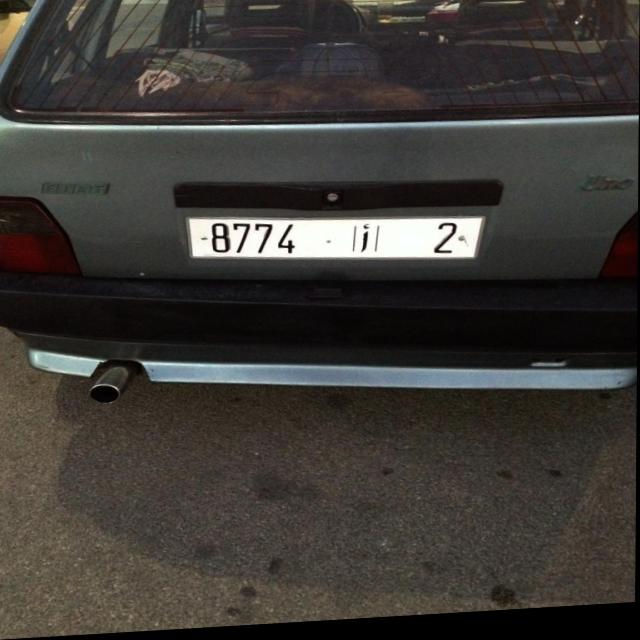License-Plate: (187, 219, 485, 265)
